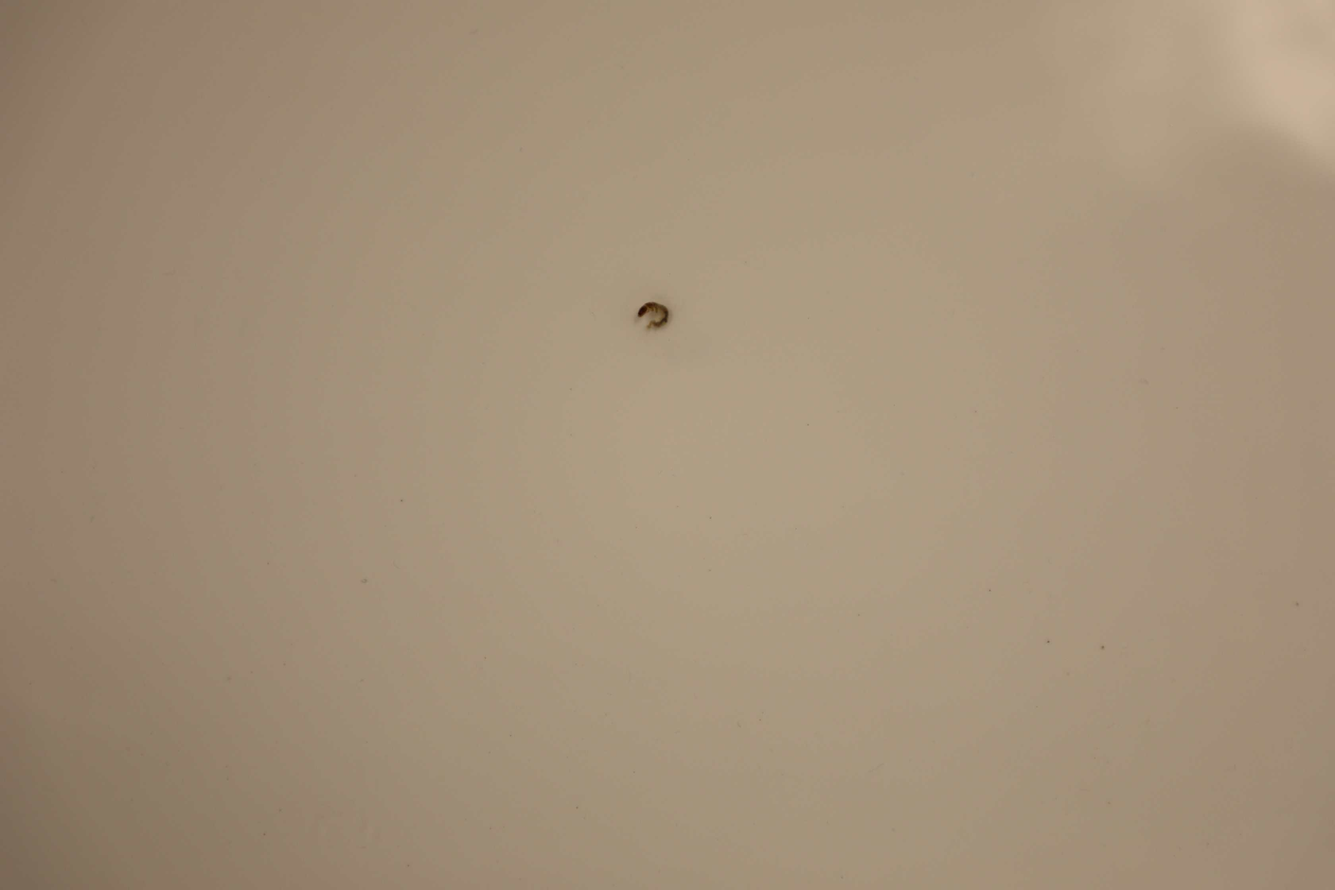Cadisfly: (636, 299, 675, 332)
